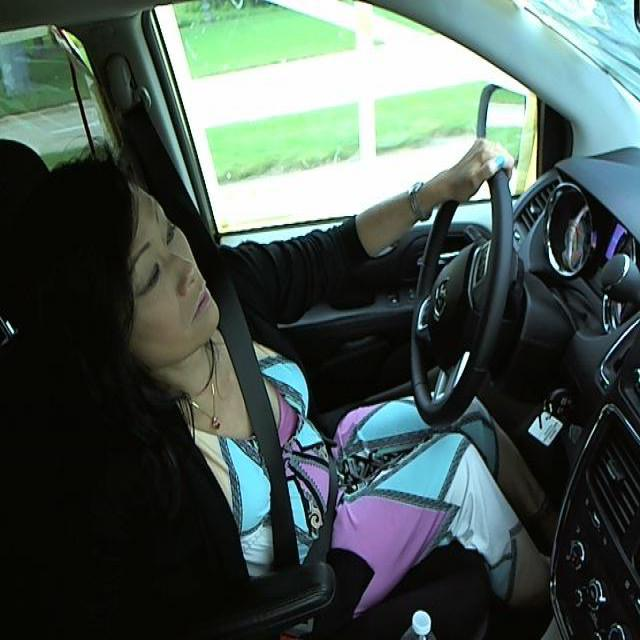seatbelt: (222, 336, 341, 569)
